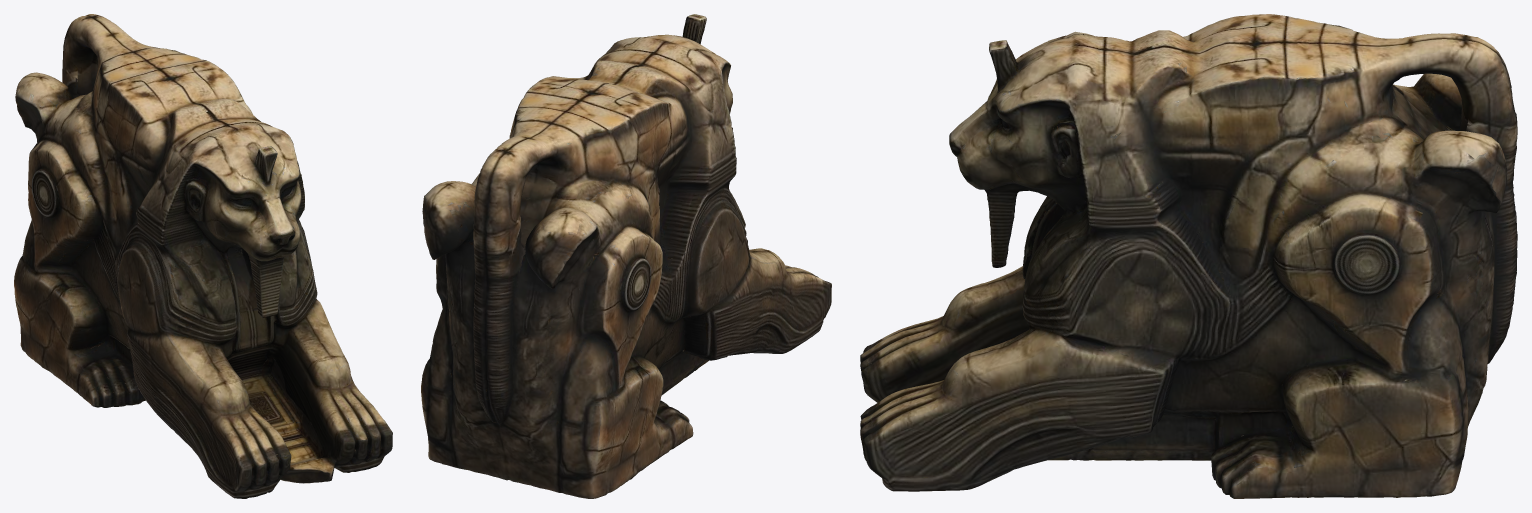
The model's file is Sphinx Temple_final.glb.
3 views of the same model, side by side, from view 1: azimuth 30°, elevation 25°; view 2: azimuth 150°, elevation 25°; view 3: azimuth 270°, elevation 25° (orthographic). The views are drawn at different scales.
Parts seen in each view (by area): view 1: Mesh_0; view 2: Mesh_0; view 3: Mesh_0.
Part boxes in pixels (x1,y1,x2,y2): Mesh_0: (14, 14, 392, 498); Mesh_0: (421, 14, 831, 498); Mesh_0: (860, 14, 1517, 498).
Size of the model in its own units: 5.82 by 10 by 14.44.
Materials: 1 (1 with a texture image).
